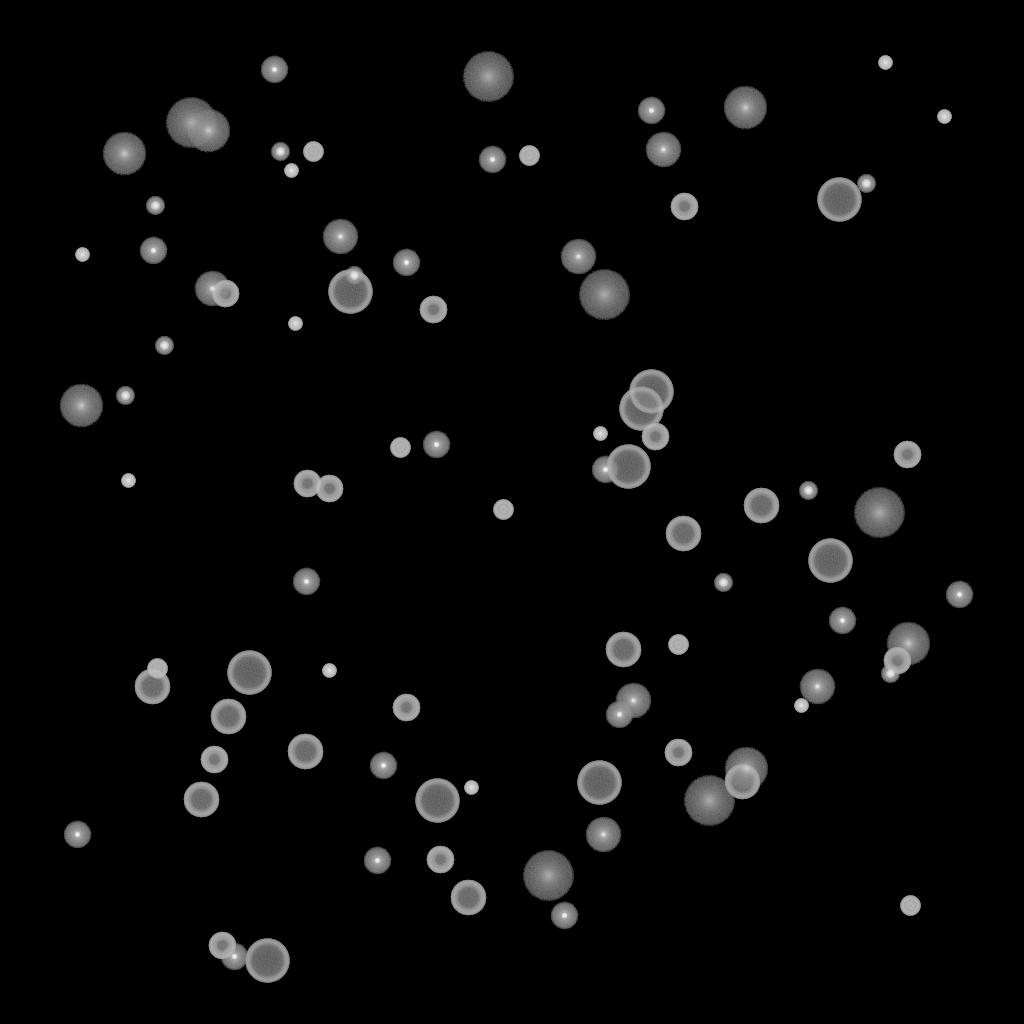depth:-10: (478, 146, 506, 174), (220, 943, 248, 971), (828, 607, 856, 635), (63, 821, 91, 849), (945, 581, 973, 609), (422, 431, 450, 459), (363, 847, 391, 875), (139, 237, 167, 265), (637, 97, 665, 125), (591, 456, 619, 484), (260, 56, 288, 84), (292, 568, 320, 596), (605, 701, 633, 729), (392, 249, 420, 277), (550, 902, 578, 930), (369, 752, 397, 780)
depth:-20: (271, 143, 289, 161), (714, 574, 732, 592), (857, 175, 875, 193), (881, 665, 899, 683), (146, 197, 164, 215), (799, 482, 817, 500), (345, 267, 363, 285), (116, 387, 134, 405), (155, 337, 173, 355)
depth:-30: (937, 110, 951, 124), (121, 474, 135, 488), (75, 248, 89, 262), (794, 699, 808, 713), (284, 164, 298, 178), (593, 427, 607, 441), (322, 664, 336, 678), (878, 56, 892, 70), (288, 317, 302, 331), (464, 781, 478, 795)
depth:-40: (390, 438, 410, 458), (668, 635, 688, 655), (493, 500, 513, 520), (303, 142, 323, 162), (519, 146, 539, 166), (147, 659, 167, 679), (900, 896, 920, 916)
depth:-50: (315, 475, 343, 503), (893, 441, 921, 469), (293, 470, 321, 498), (670, 193, 698, 221), (211, 280, 239, 308), (200, 746, 228, 774), (883, 647, 911, 675), (208, 932, 236, 960), (664, 739, 692, 767), (426, 846, 454, 874), (641, 423, 669, 451), (392, 694, 420, 722), (419, 296, 447, 324)
depth:-60: (210, 699, 246, 735), (450, 880, 486, 916), (287, 734, 323, 770), (183, 782, 219, 818), (665, 516, 701, 552), (743, 488, 779, 524), (134, 669, 170, 705), (605, 632, 641, 668), (724, 764, 760, 800)
depth:-70: (245, 939, 289, 983), (606, 445, 650, 489), (619, 387, 663, 431), (577, 761, 621, 805), (415, 779, 459, 823), (808, 539, 852, 583), (629, 370, 673, 414), (328, 270, 372, 314), (227, 651, 271, 695), (817, 178, 861, 222)
depth:0: (615, 683, 651, 719), (560, 239, 596, 275), (799, 669, 835, 705), (585, 817, 621, 853), (194, 271, 230, 307), (645, 132, 681, 168), (322, 219, 358, 255)
depth:10: (102, 132, 146, 176), (724, 747, 768, 791), (723, 86, 767, 130), (59, 384, 103, 428), (886, 622, 930, 666), (186, 109, 230, 153)
depth:20: (165, 98, 217, 148), (683, 776, 735, 826), (462, 52, 514, 102), (578, 270, 630, 320), (853, 488, 905, 538), (522, 851, 574, 901)
